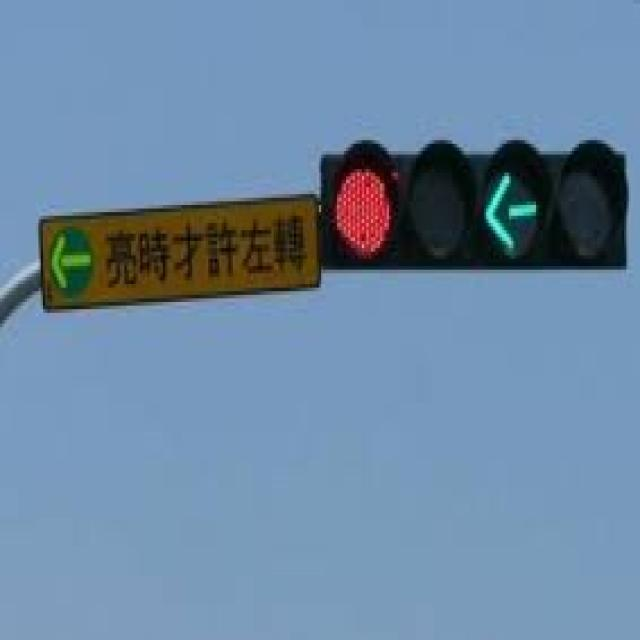red: (340, 162, 392, 244)
